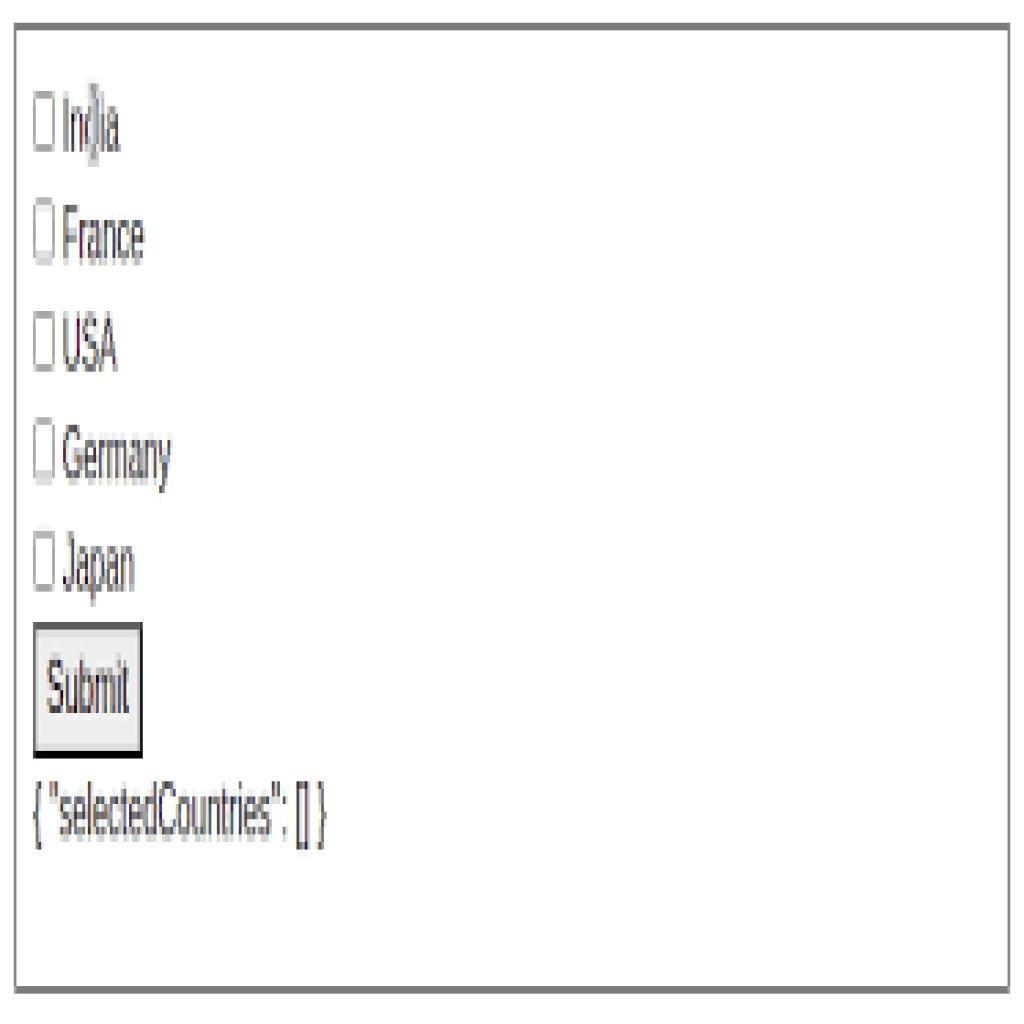button: (33, 626, 144, 759)
checkbox: (32, 420, 58, 484), (32, 202, 56, 265), (33, 93, 58, 150), (33, 533, 58, 588), (34, 314, 57, 370)
